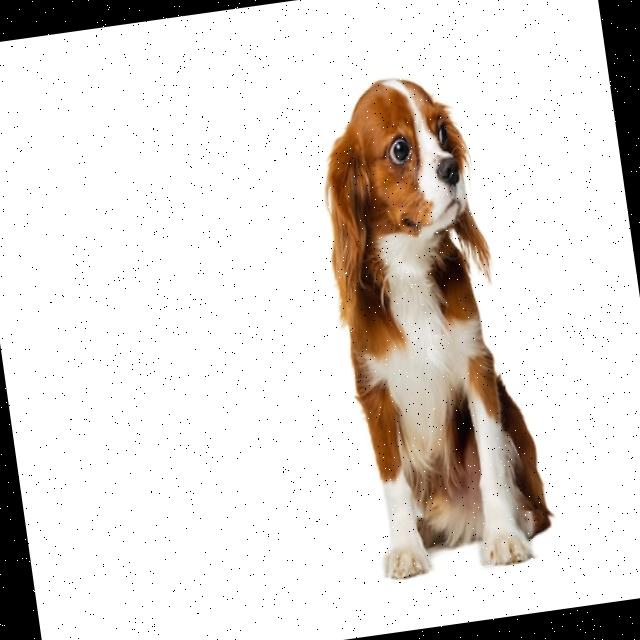Dog: (306, 64, 558, 583)
